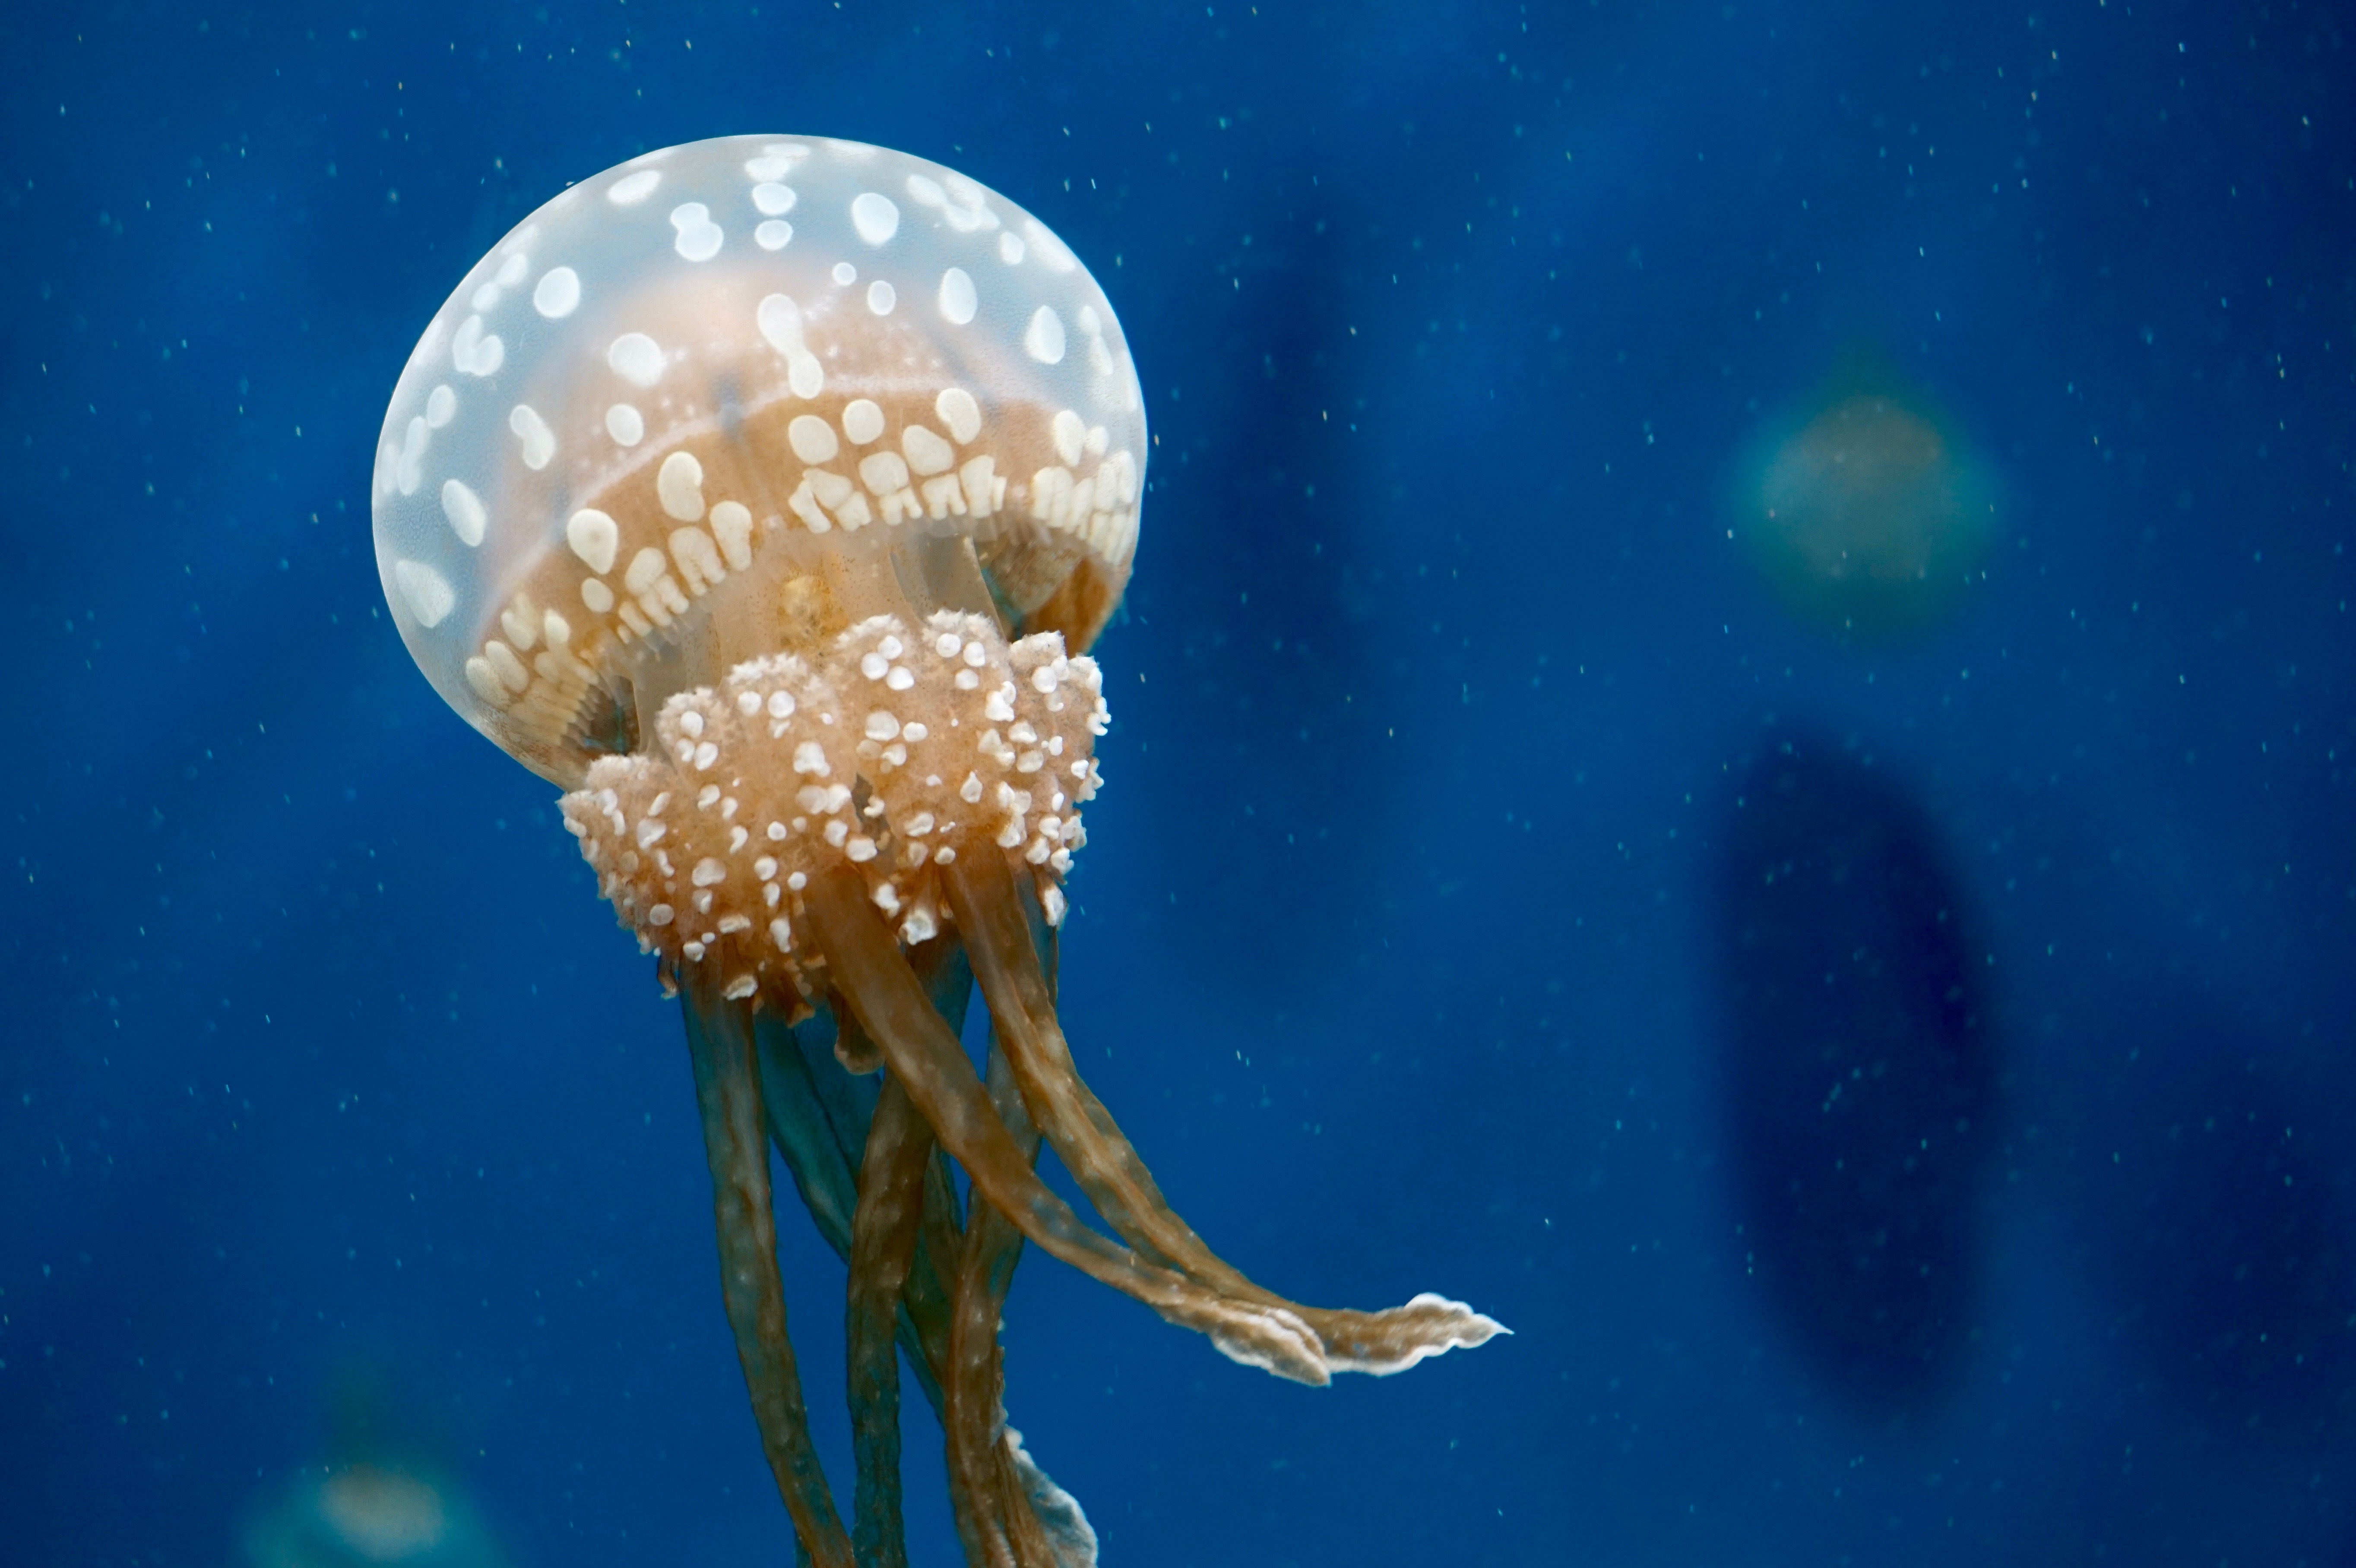jellyfish: (361, 122, 1495, 1565)
